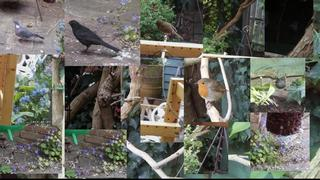blackbird: (66, 20, 120, 56)
robin: (194, 78, 230, 110), (154, 20, 183, 39)
sparrow: (272, 78, 285, 90)
wood pigeon: (12, 20, 45, 42)
